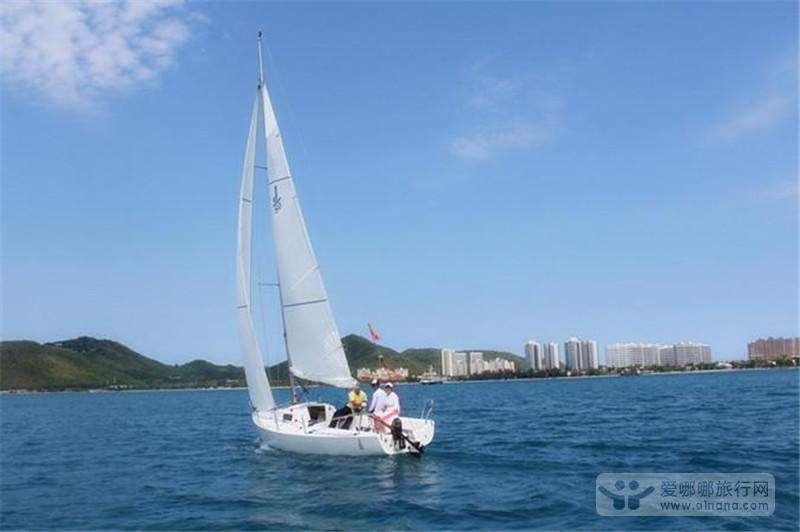fanchuan: (222, 11, 438, 454)
